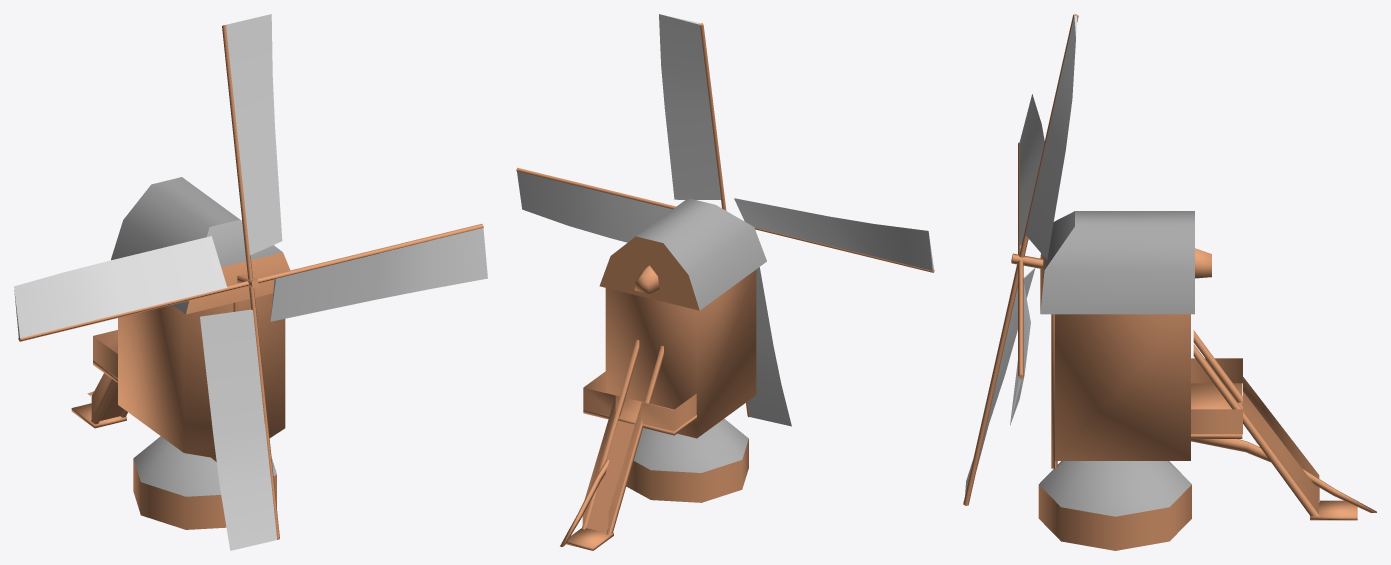
Rendered from windmill.glb.
3 renders of one model, left to right at view 1: azimuth 30°, elevation 25°; view 2: azimuth 150°, elevation 25°; view 3: azimuth 270°, elevation 25°, orthographic. The views are drawn at different scales.
Parts seen in each view (by area): view 1: standardmolen; view 2: standardmolen; view 3: standardmolen.
Part boxes in pixels (x1,y1,x2,y2): standardmolen: (14, 14, 487, 550); standardmolen: (516, 14, 934, 550); standardmolen: (963, 14, 1376, 550).
Size of the model in its own units: 1.99 by 2.01 by 1.49.
